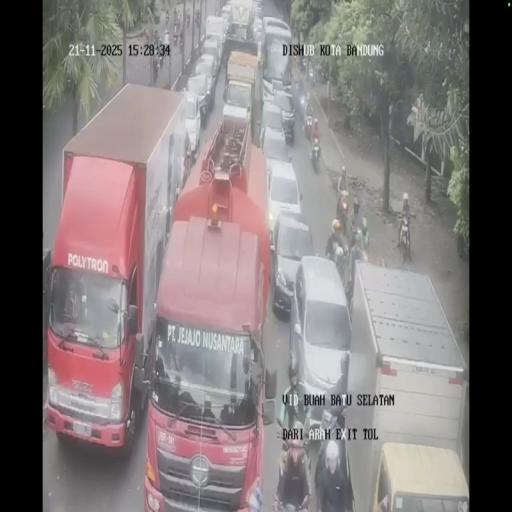car: (270, 208, 316, 318), (220, 100, 251, 152), (270, 88, 296, 144), (186, 72, 210, 126), (200, 36, 221, 76), (252, 16, 264, 45), (220, 4, 232, 28)
motorcycle: (330, 240, 348, 284), (398, 218, 412, 263), (336, 196, 348, 233), (349, 221, 363, 252), (310, 134, 321, 170), (303, 106, 313, 139), (172, 23, 180, 45), (153, 55, 159, 82), (153, 31, 159, 56), (158, 47, 164, 69), (178, 32, 184, 52), (175, 8, 181, 26), (195, 14, 201, 28), (165, 9, 169, 26), (186, 14, 190, 28)
truck: (46, 82, 192, 456), (341, 262, 467, 510), (262, 18, 292, 89)
